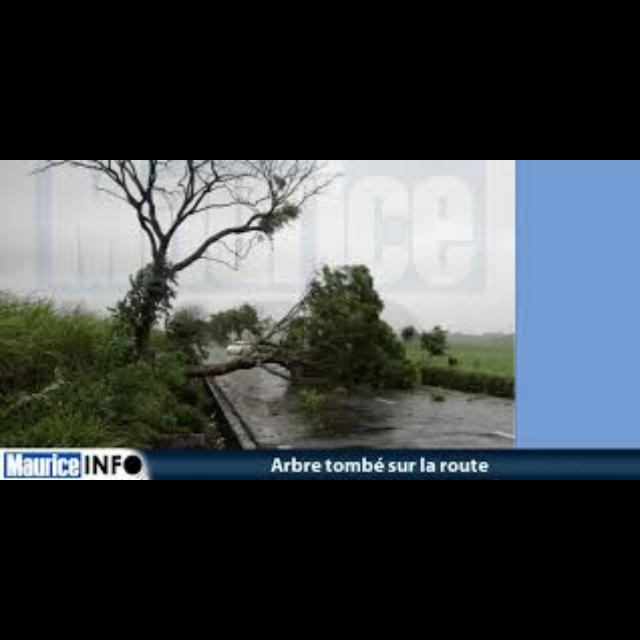Fallen Tree: (160, 324, 310, 384)
